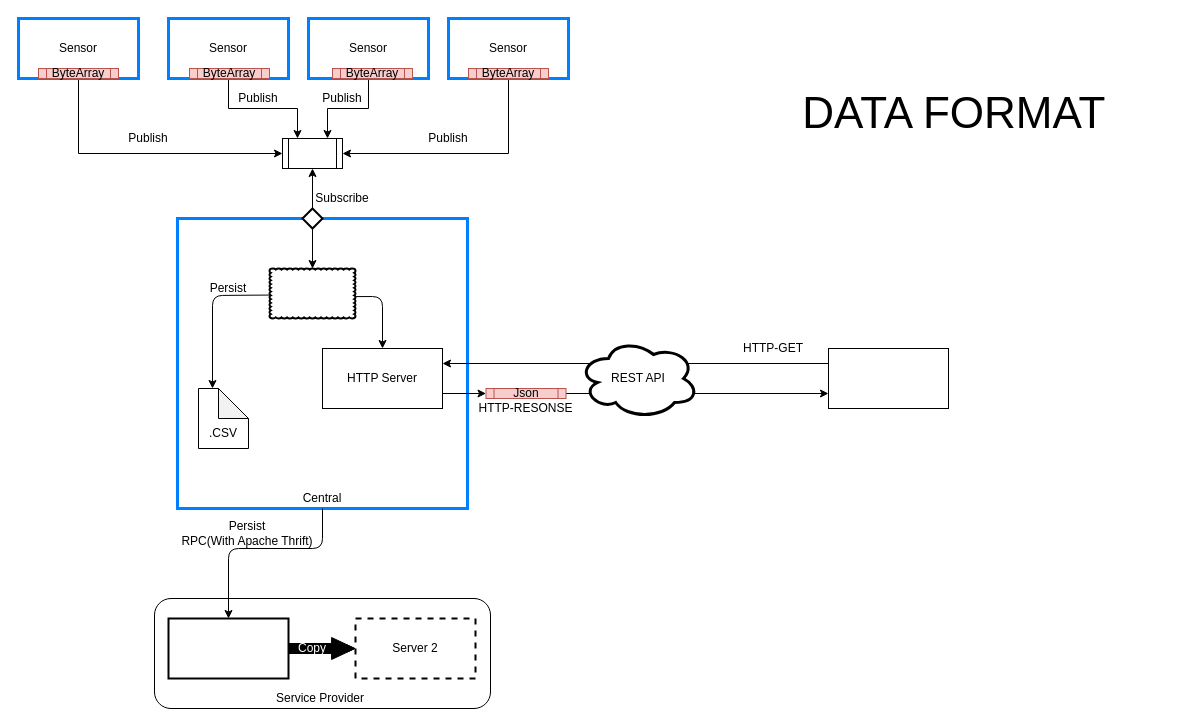
Image size: 1203x726. Some labels were removed from this diagram. The shapes that lost their labels are listed below. From the top down, each one's box as (x1, y1, x2, y2) in pixels, then its label:
(282, 138, 342, 168): MQTT Broker
(268, 267, 356, 319): Interpret And Serialize (Json)
(828, 348, 948, 408): Client
(167, 617, 289, 679): Server 1
